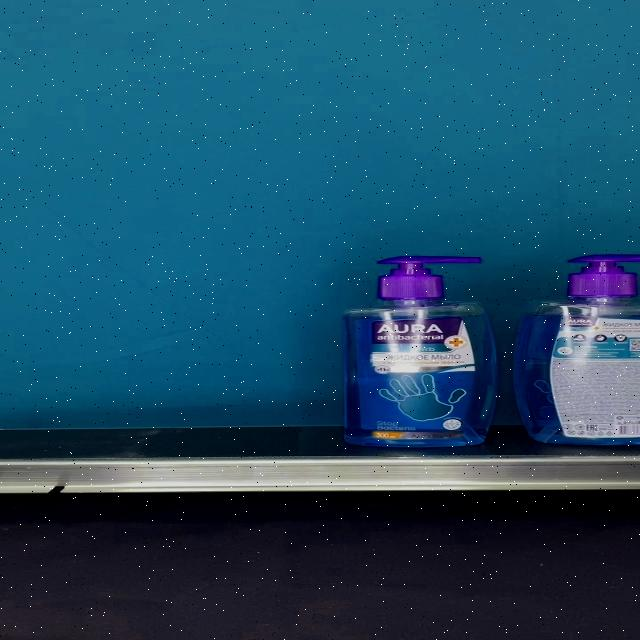Bottle: (341, 256, 497, 448), (512, 253, 640, 446)
Cap: (377, 256, 481, 300), (568, 254, 640, 298)
